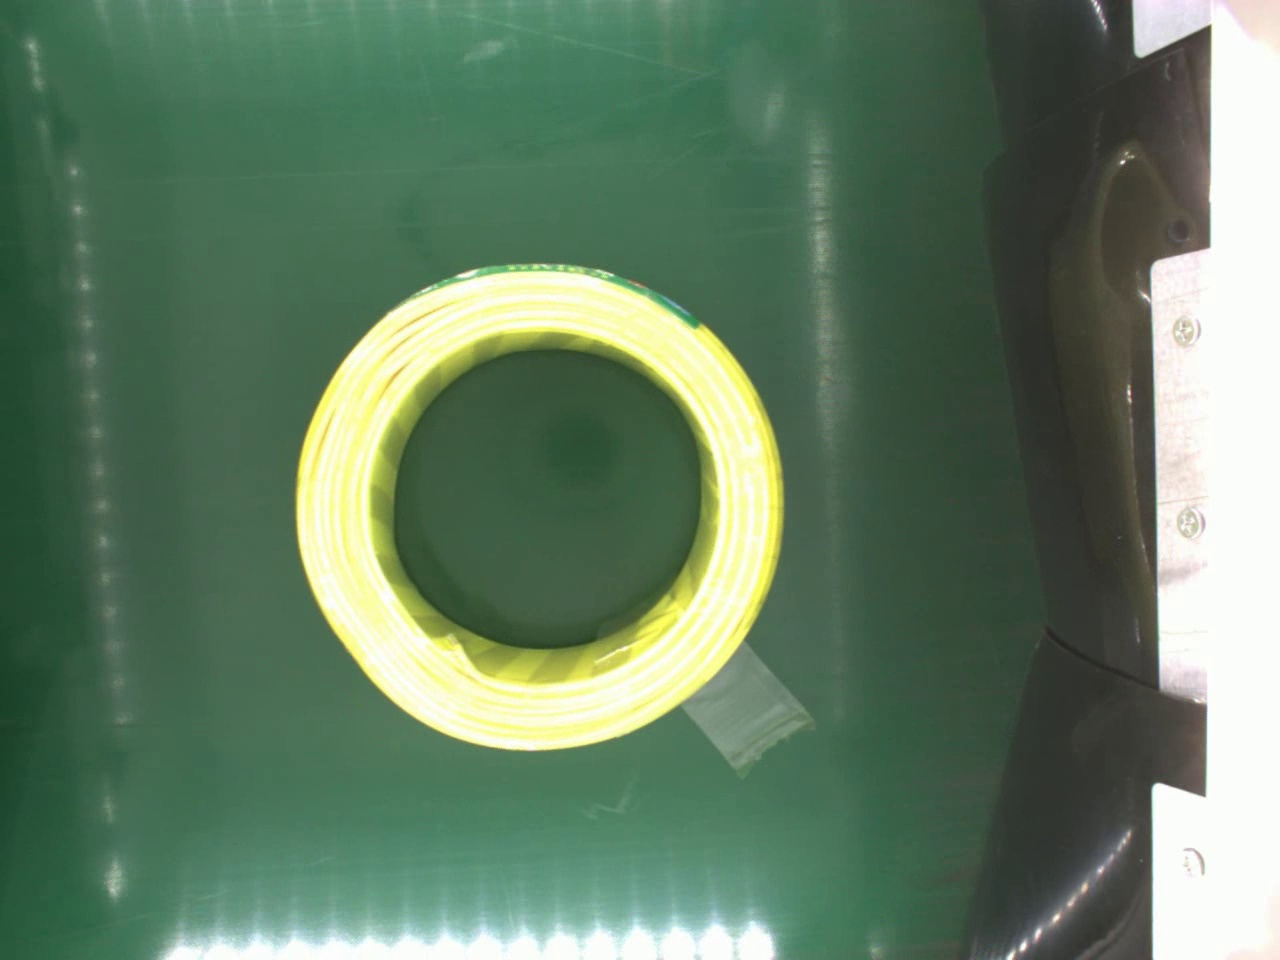yellow: (292, 264, 791, 756)
